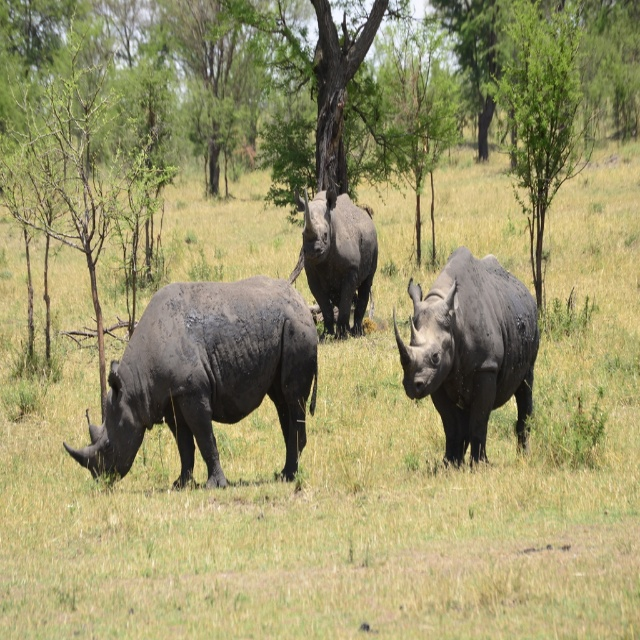Rhinoceros: (60, 271, 320, 492), (389, 238, 540, 473), (302, 179, 380, 344)
